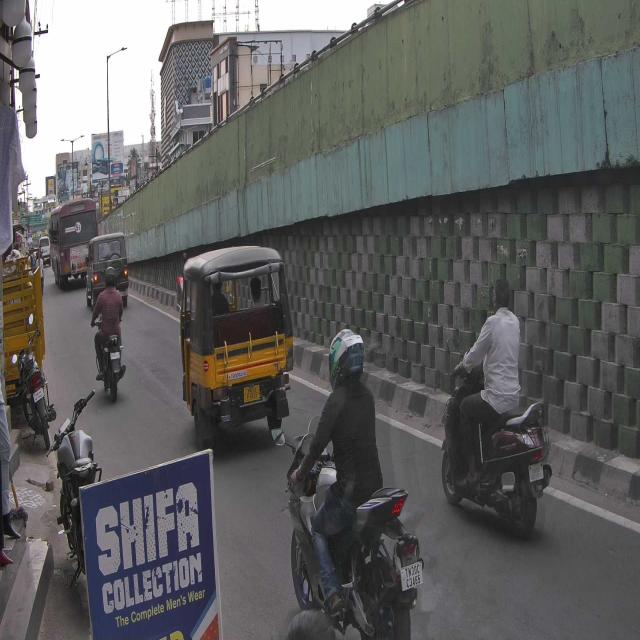single_rider: (269, 324, 424, 640), (436, 275, 556, 552)
